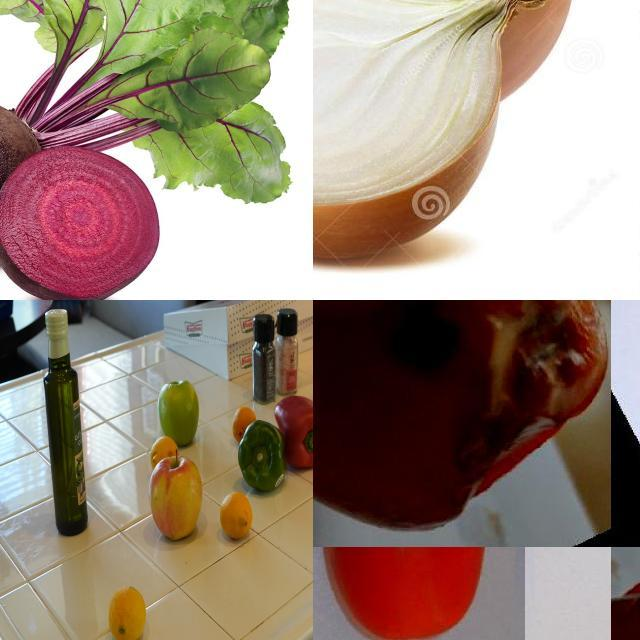beet: (1, 148, 164, 301), (1, 98, 54, 262)
bell_pepper: (240, 423, 286, 495), (274, 391, 314, 470), (253, 318, 277, 404)
onion: (314, 1, 528, 265), (314, 1, 578, 135)
tomato: (314, 548, 526, 640)
